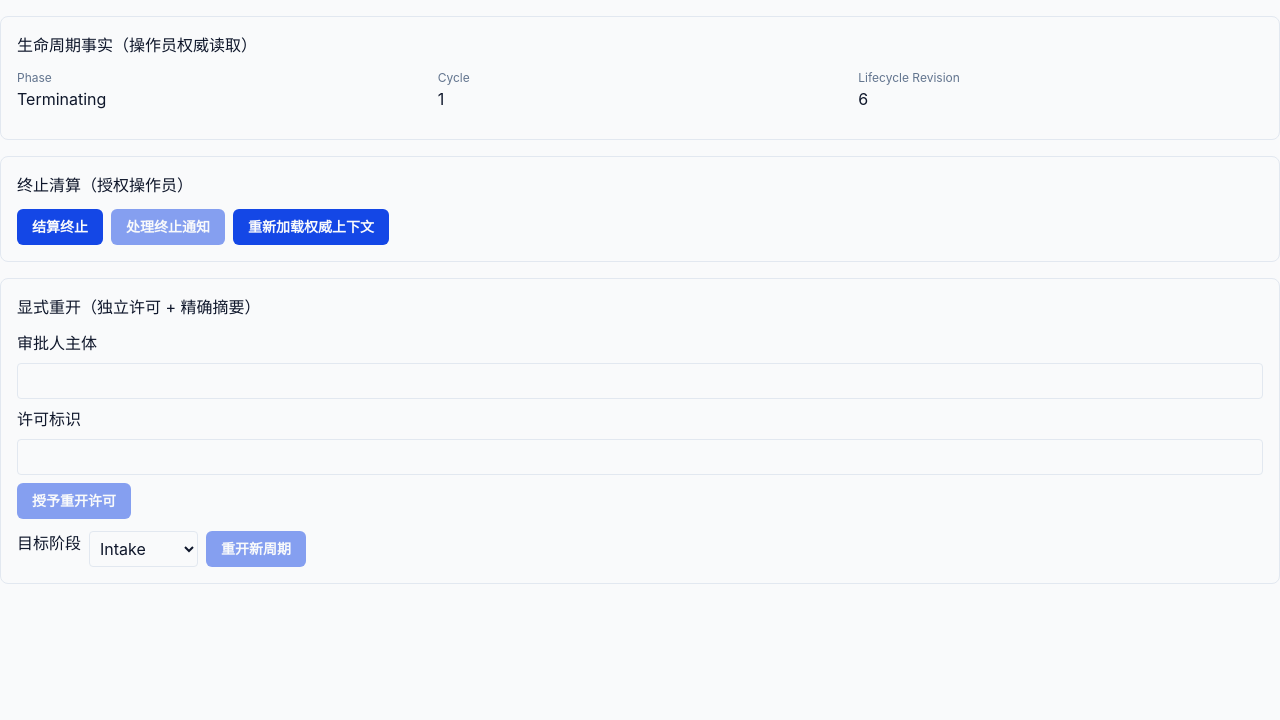
Scenario: T16SettlementPanel (operator) › runs settle-arm, notification, settle-seal and renders every typed outcome
Click the button with test id "t16-settle-button".
click(60, 227)  # box [17, 209, 103, 245]
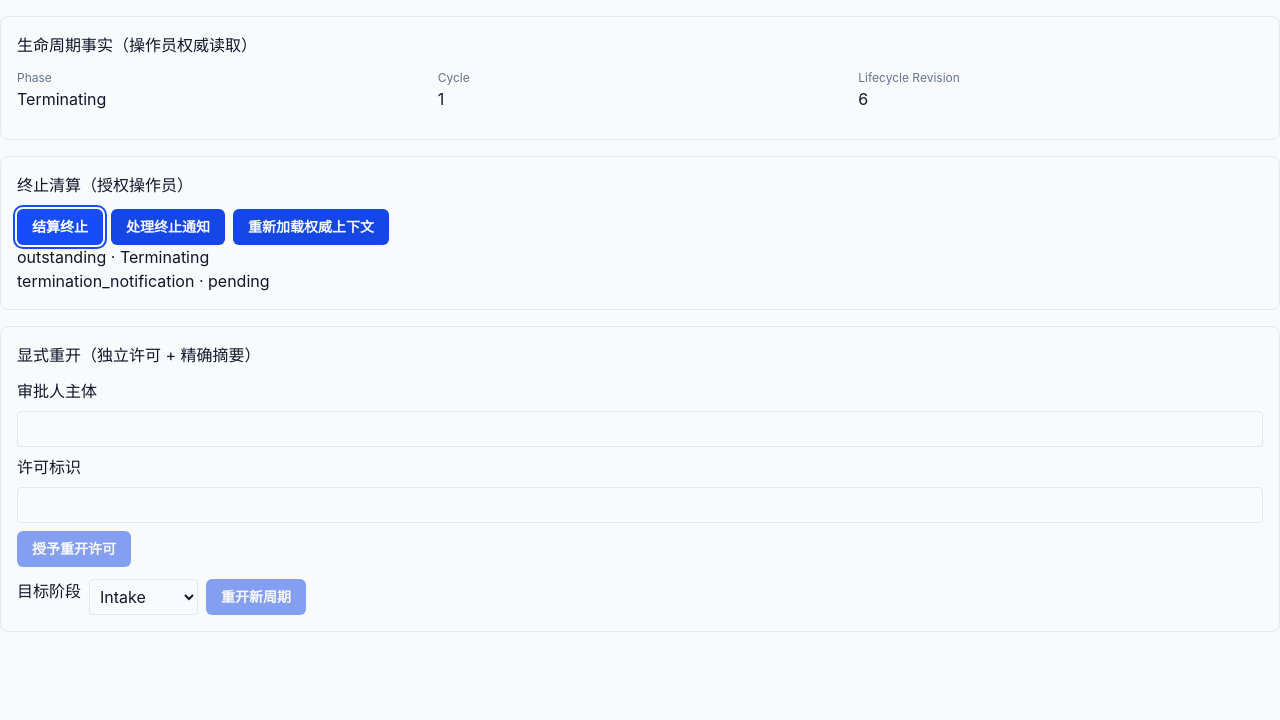
Expected: the message with test id "t16-result-status" shows "outstanding", [17, 247, 106, 267]
Expected: the list with test id "t16-unresolved-effects" shows "termination_notification", [17, 271, 194, 291]
Click the button with test id "t16-notification-button".
click(168, 227)  # box [111, 209, 225, 245]
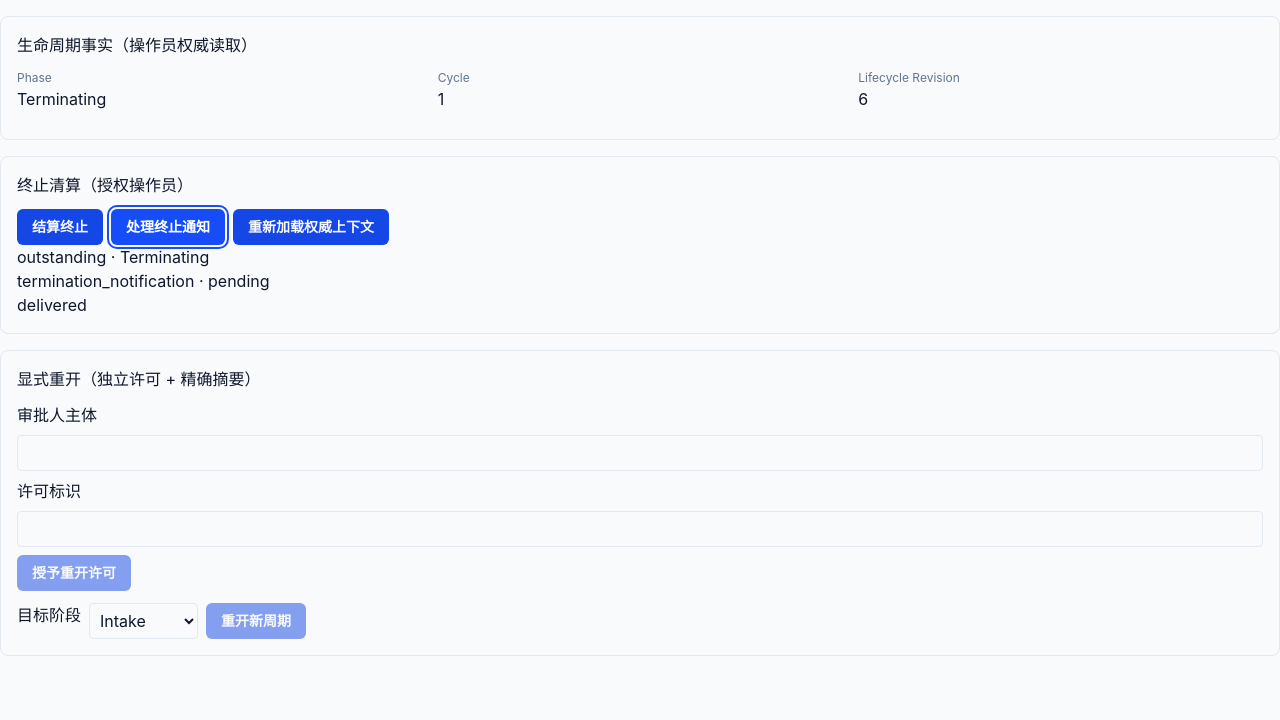
Expected: the message with test id "t16-notification-status" reads "delivered", [17, 295, 87, 315]
Click the button with test id "t16-settle-button".
click(60, 227)  # box [17, 209, 103, 245]
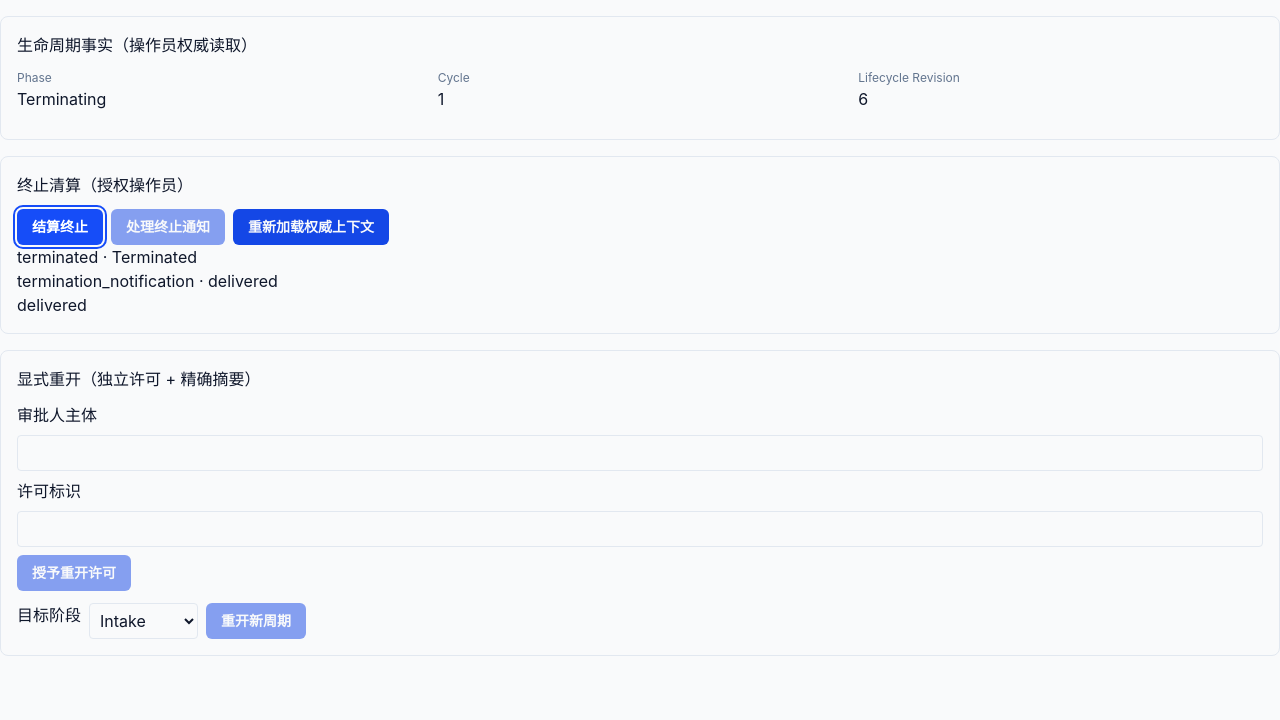
Expected: the message with test id "t16-result-status" shows "terminated", [17, 247, 98, 267]
